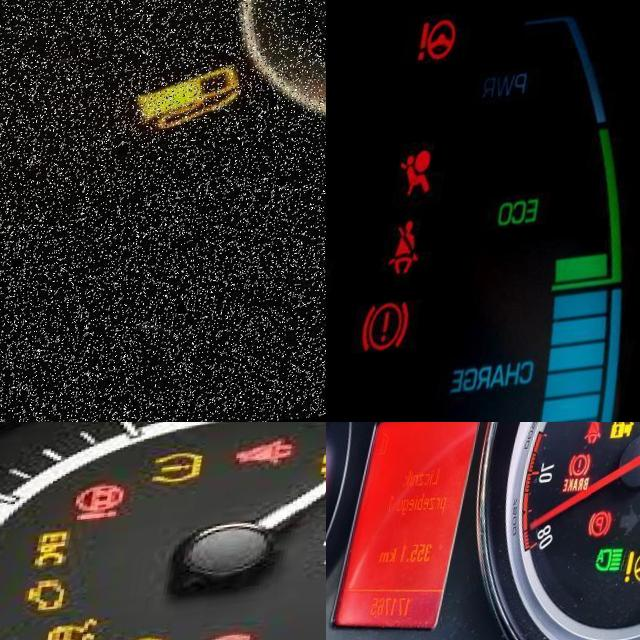Electronic Power Steering: (77, 485, 134, 528), (416, 24, 468, 69)
Seat Belt: (398, 226, 439, 284), (239, 448, 301, 476), (594, 425, 616, 457)
